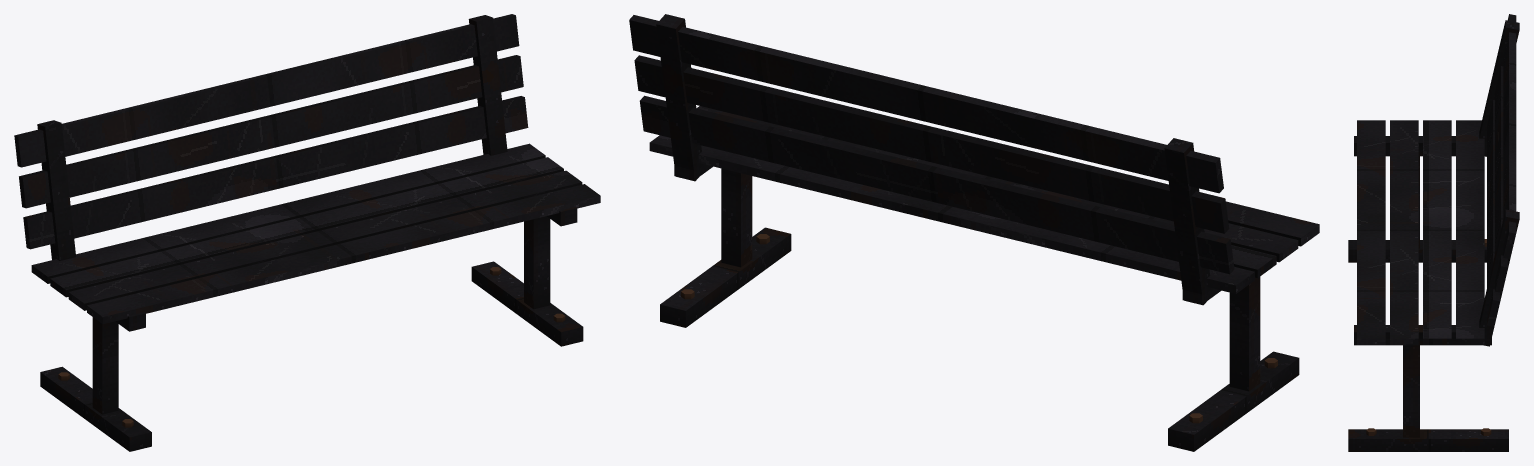
The model's file is platform_bench.glb.
3 views of the same model, side by side, from view 1: azimuth 30°, elevation 25°; view 2: azimuth 150°, elevation 25°; view 3: azimuth 270°, elevation 25° (orthographic). The views are drawn at different scales.
Visible parts, largest first — view 1: body; view 2: body; view 3: body.
Boxes of the visible parts, <box> form: body: <box>14,14,600,451</box>; body: <box>629,14,1319,451</box>; body: <box>1348,14,1519,451</box>.
Size of what is drawn, in the model's own units: 1.8 by 0.8997 by 0.5964.
3 materials, 2 textured.
